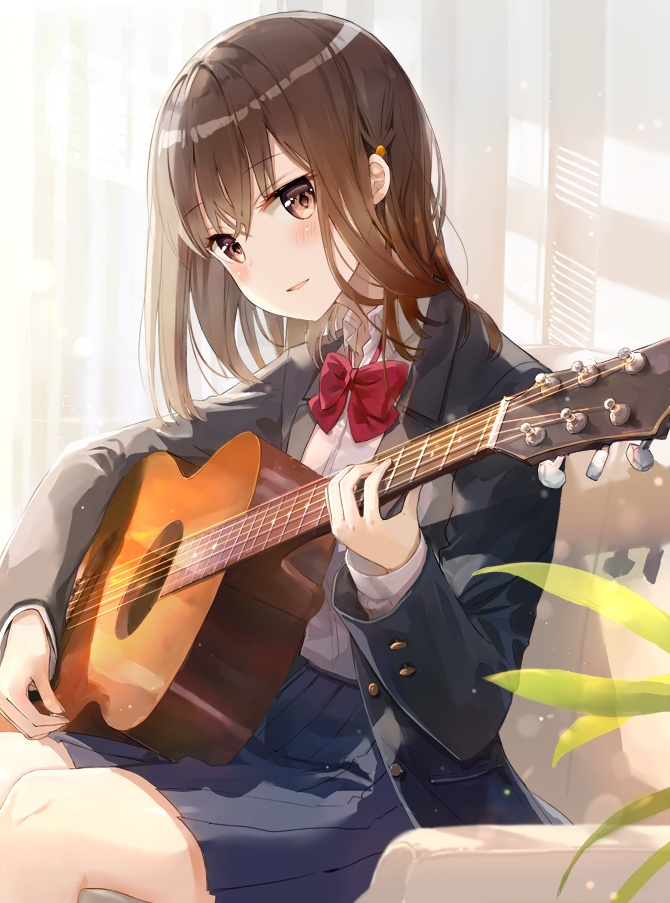纸片人正脸: (139, 13, 453, 334)
